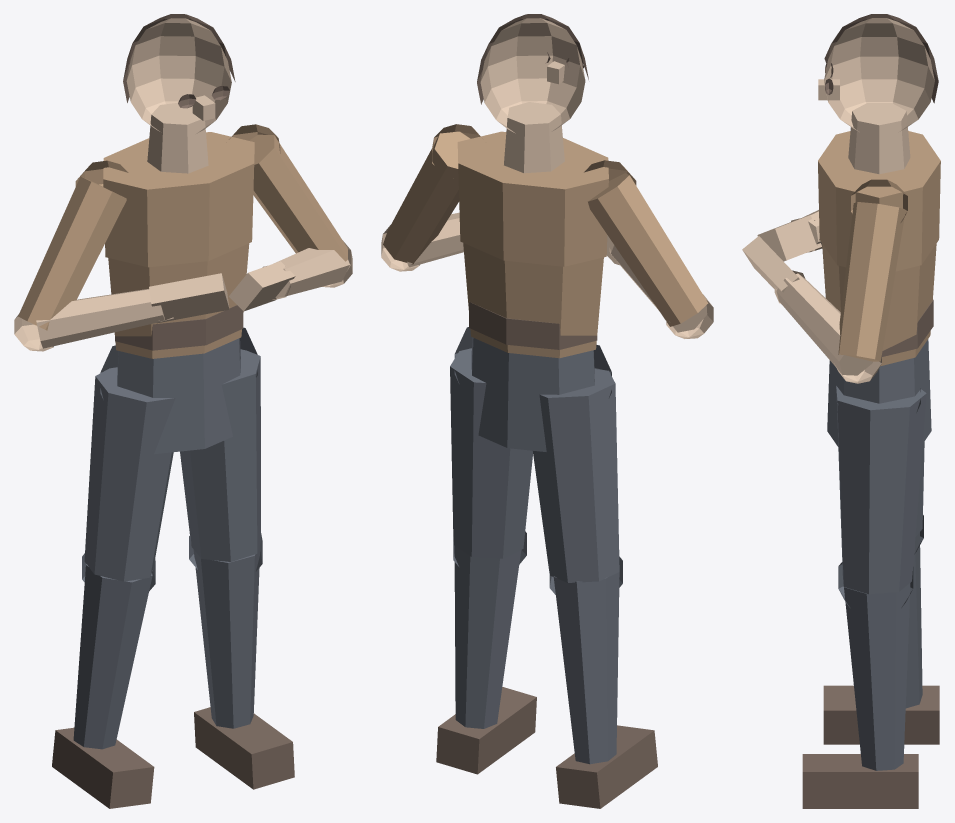
Rendered from low-poly-character-figures-civilian-arms-crossed-d539191f.glb.
3 renders of one model, left to right at view 1: azimuth 30°, elevation 25°; view 2: azimuth 150°, elevation 25°; view 3: azimuth 270°, elevation 25°, orthographic.
Visible parts, largest first — view 1: civilian-arms-crossed; view 2: civilian-arms-crossed; view 3: civilian-arms-crossed.
Part boxes in pixels (box(x1,y1,x2,y2)): civilian-arms-crossed: box(14, 14, 352, 808); civilian-arms-crossed: box(381, 14, 713, 808); civilian-arms-crossed: box(742, 14, 940, 808).
Size of the model in its own units: 0.8054 by 1.76 by 0.42.
